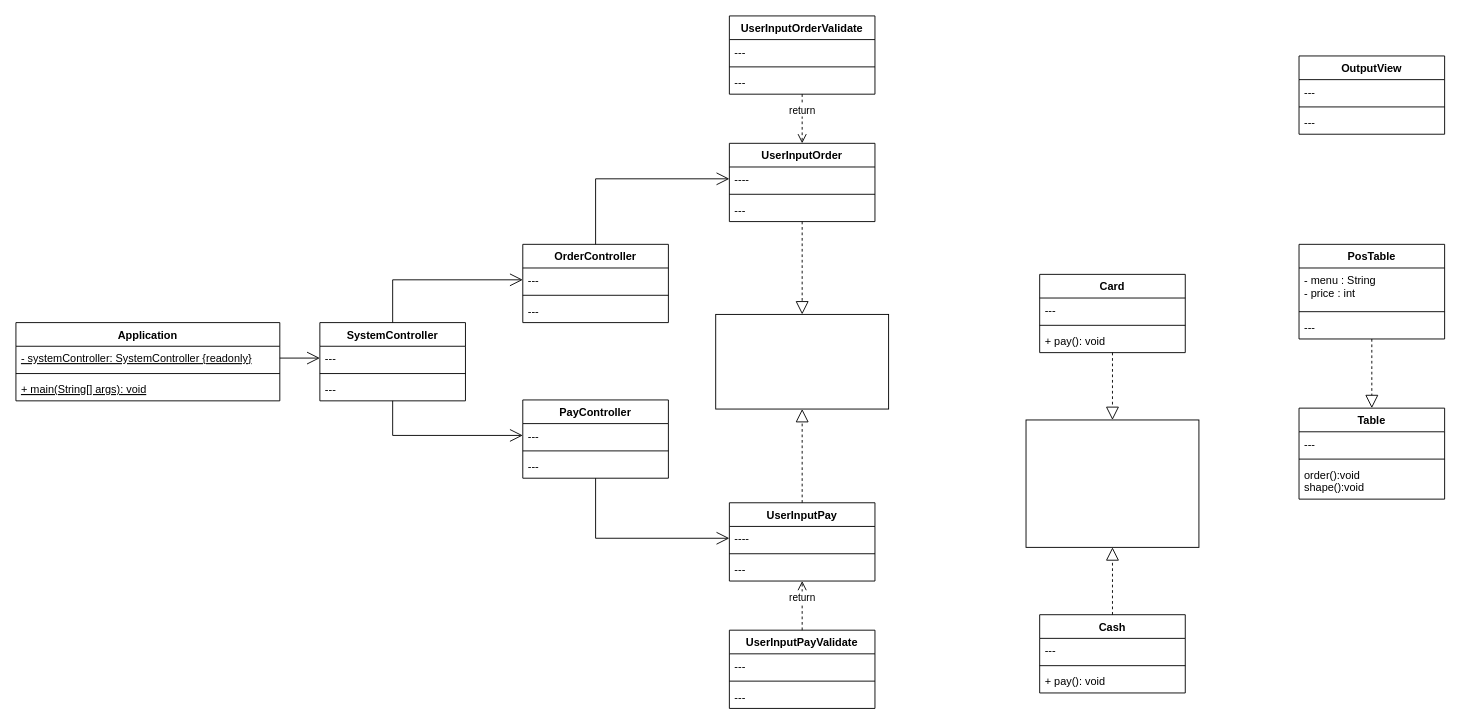
Image size: 1461x727. Some labels were removed from this diagram. Each missing label, with the centre of its shape:
"<<Interface>> Pay --- + pay():void" belongs at (1112,483).
"<<Interface>> UserInput --- + userInput(): String" belongs at (802,361).
